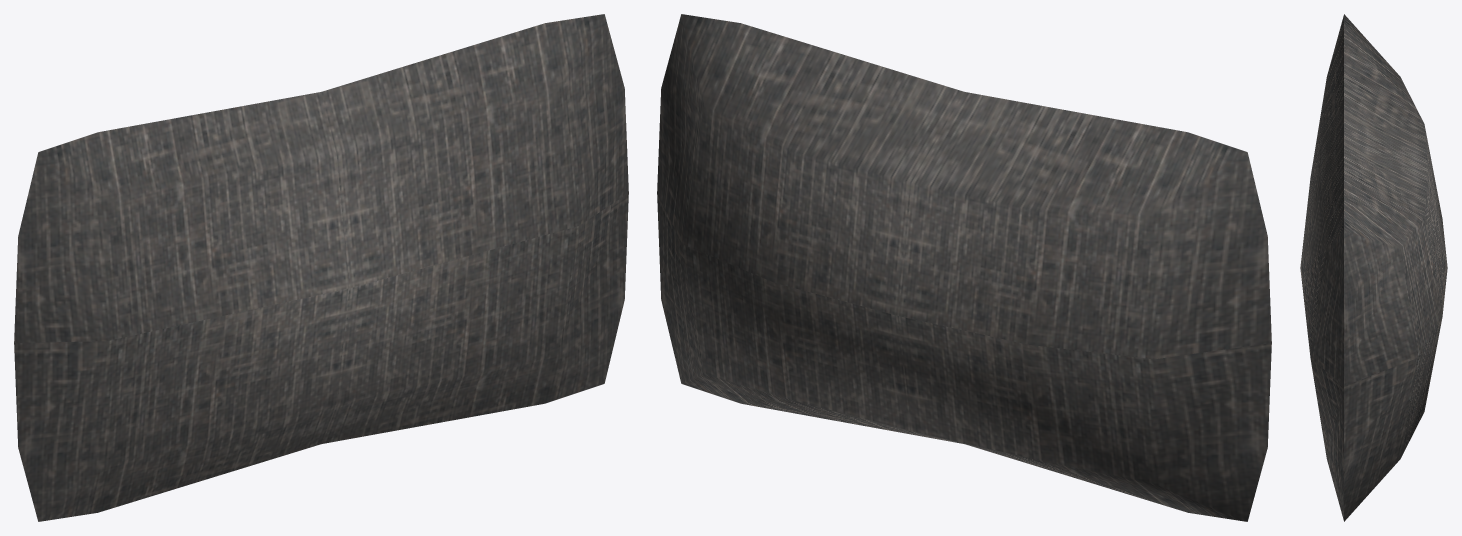
File: Bag_Flat_B.fbx
3 views of the same model, side by side, from view 1: azimuth 30°, elevation 25°; view 2: azimuth 150°, elevation 25°; view 3: azimuth 270°, elevation 25° (orthographic). The views are drawn at different scales.
Visible parts, largest first — view 1: Bag_Flat_B; view 2: Bag_Flat_B; view 3: Bag_Flat_B.
Part boxes in pixels (x1,y1,x2,y2): Bag_Flat_B: (14,14,628,521); Bag_Flat_B: (657,14,1271,521); Bag_Flat_B: (1300,14,1447,521).
Bounding box in the file's own units: 1.49 × 0.8795 × 0.3924.
